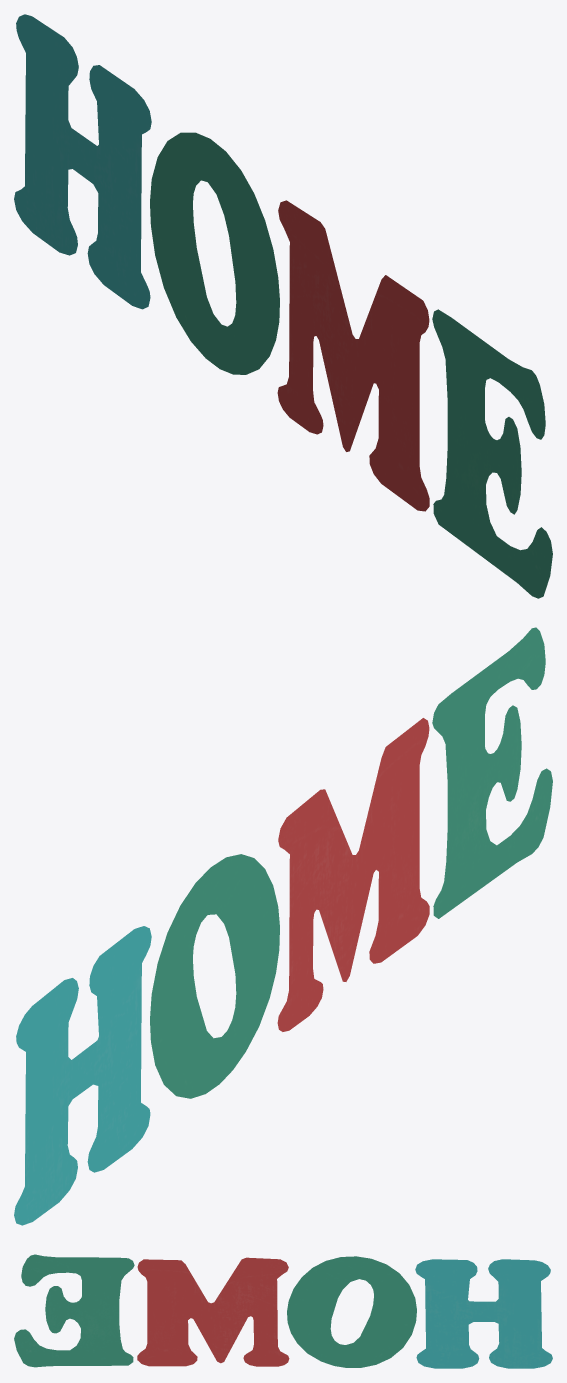
The model's file is SM_Hanging_Letters_Home_01a.fbx.
3 renders of one model, top to bottom at view 1: azimuth 30°, elevation 25°; view 2: azimuth 150°, elevation 25°; view 3: azimuth 270°, elevation 25°, orthographic. The views are drawn at different scales.
Parts seen in each view (by area): view 1: SM_Hanging_Letters_Home_01a_LOD0; view 2: SM_Hanging_Letters_Home_01a_LOD0; view 3: SM_Hanging_Letters_Home_01a_LOD0.
Part boxes in pixels (x1,y1,x2,y2): SM_Hanging_Letters_Home_01a_LOD0: (14,14,552,598); SM_Hanging_Letters_Home_01a_LOD0: (14,627,552,1225); SM_Hanging_Letters_Home_01a_LOD0: (14,1254,552,1368).
Bounding box in the file's own units: 3.07e-05 × 17.62 × 4.12.
